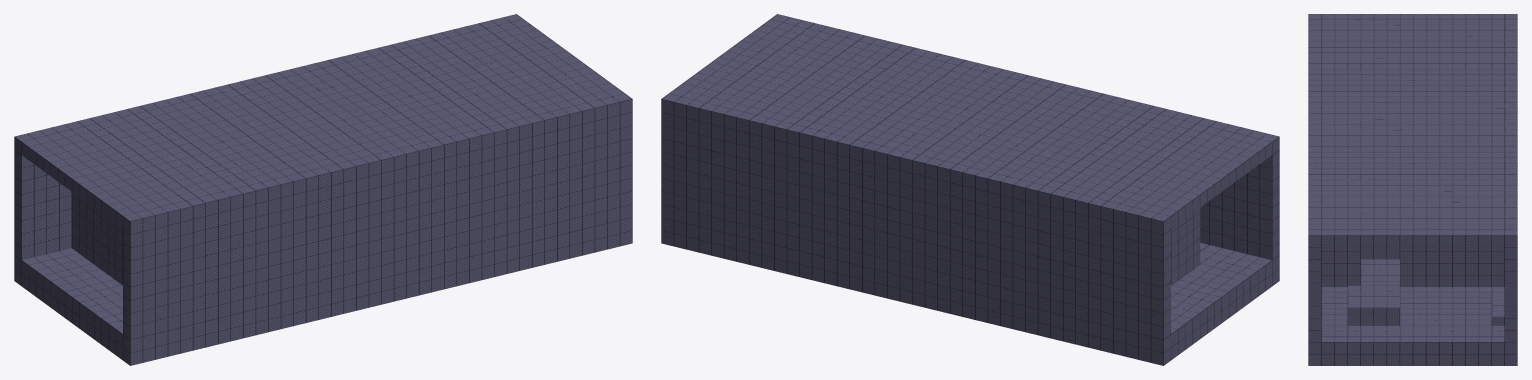
File: Module_7.fbx
The picture shows the model from 3 angles, left to right: view 1: azimuth 30°, elevation 25°; view 2: azimuth 150°, elevation 25°; view 3: azimuth 270°, elevation 25°; orthographic projection. The views are drawn at different scales.
Visible parts, largest first — view 1: Module_7; view 2: Module_7; view 3: Module_7.
Part boxes in pixels (x1,y1,x2,y2): Module_7: [14, 14, 632, 365]; Module_7: [661, 14, 1279, 365]; Module_7: [1308, 14, 1517, 365].
Size of the model in its own units: 4000 by 1100 by 1600.
Materials: 2 (1 with a texture image).
